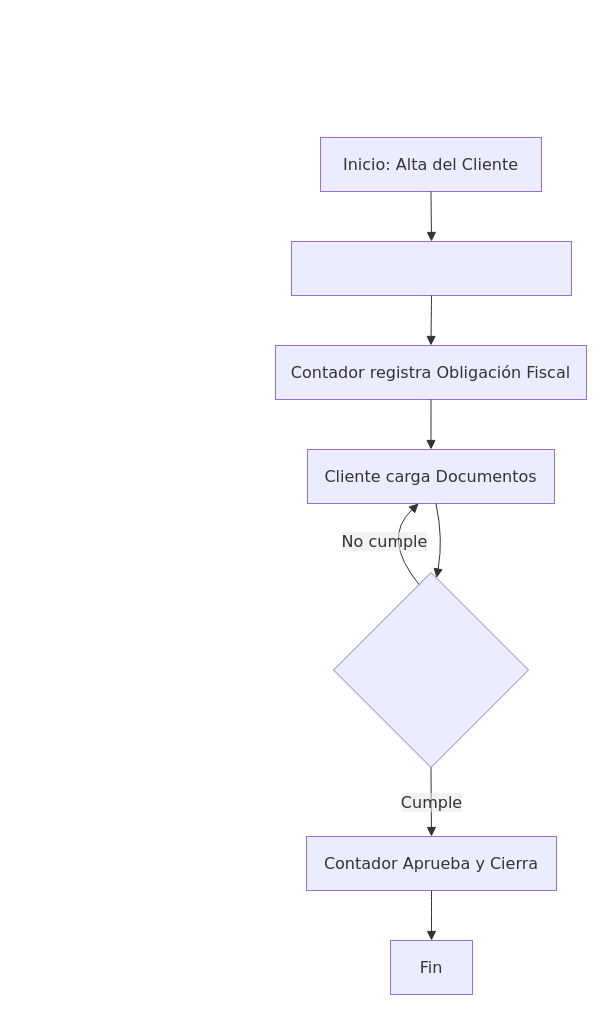
Some shapes in this 604 by 1012 pixel diagram are drawn without their labels. The centre of each missing label's shape, as x and y in pixels:
Administrador asigna Contador: the point at 431,268
Contador revisa: the point at 430,670
